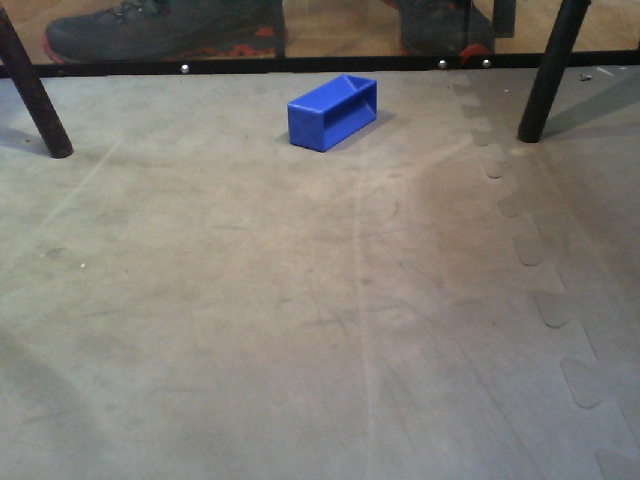BlueSample: (286, 73, 380, 154)
